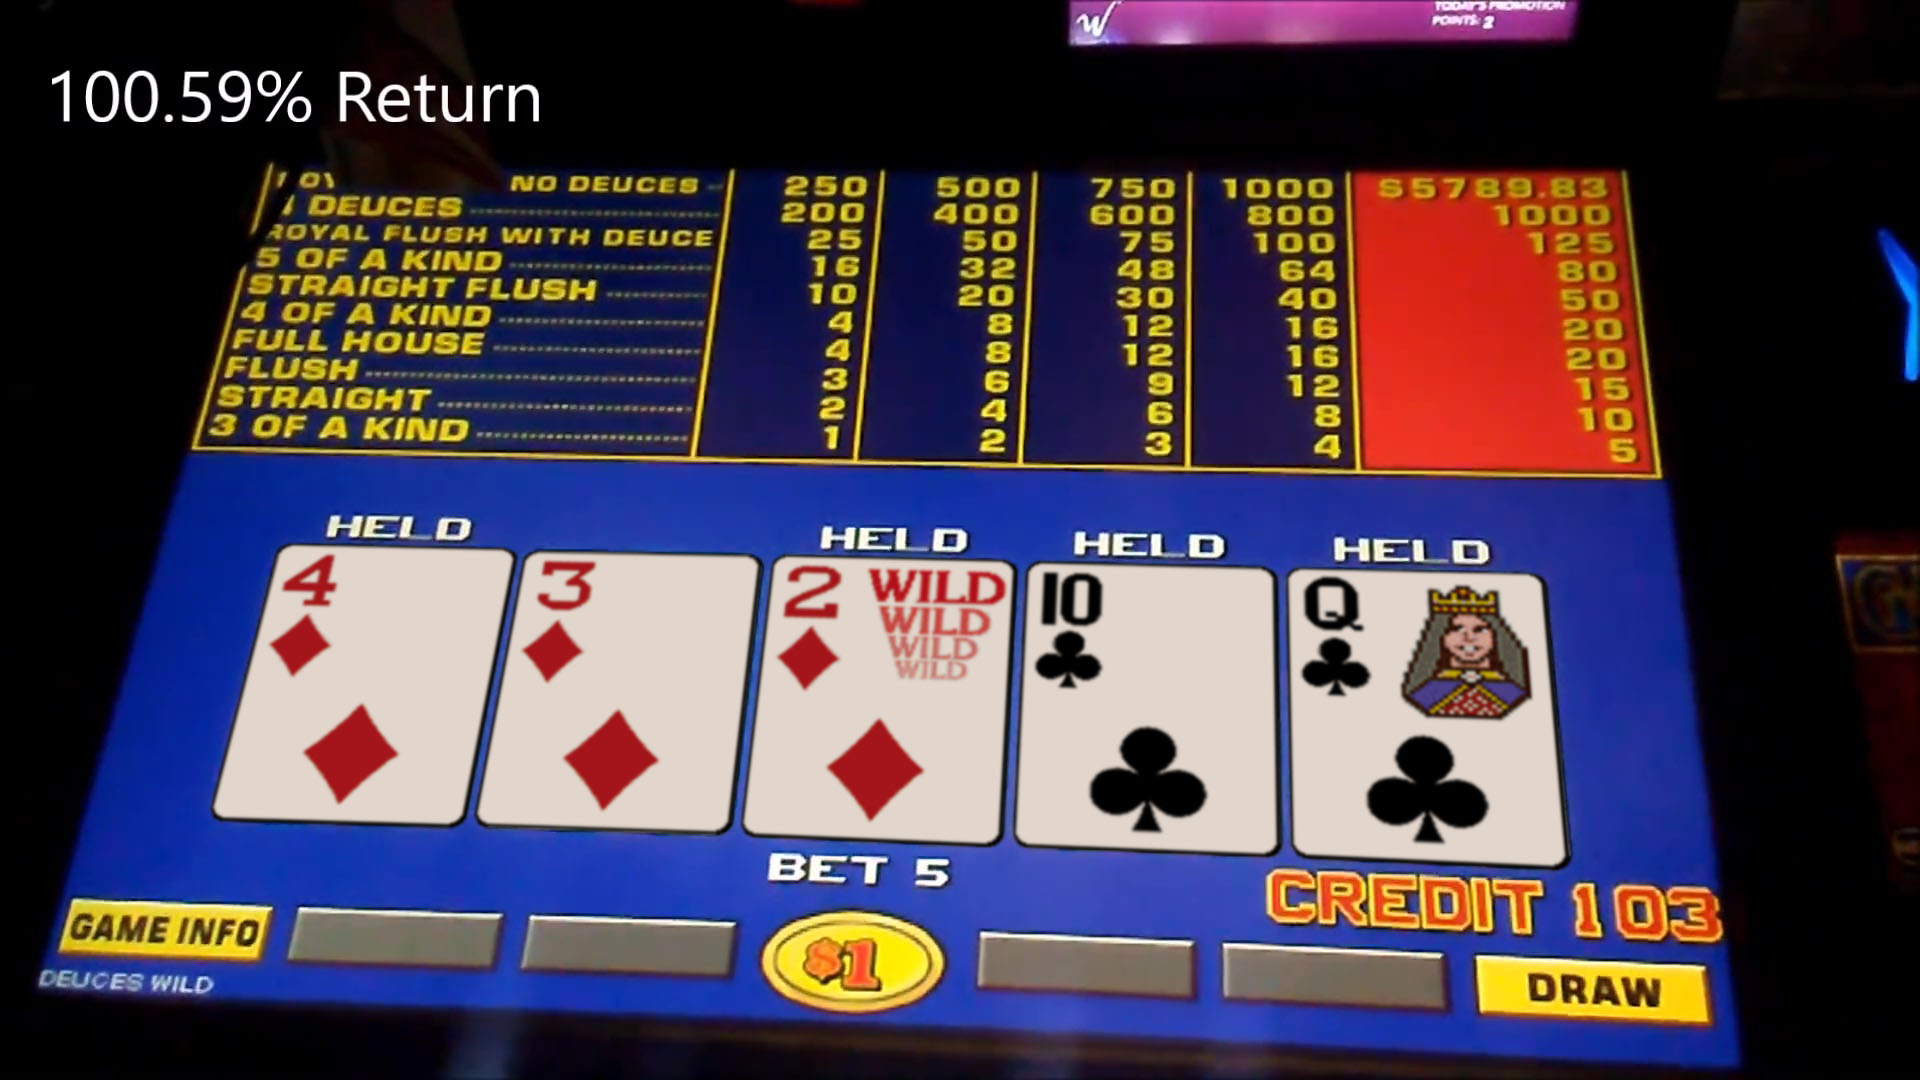CQ: (1294, 575, 1553, 855)
CT: (1029, 564, 1270, 853)
D2W: (771, 558, 997, 843)
D3: (522, 553, 735, 828)
D4: (265, 549, 472, 819)
